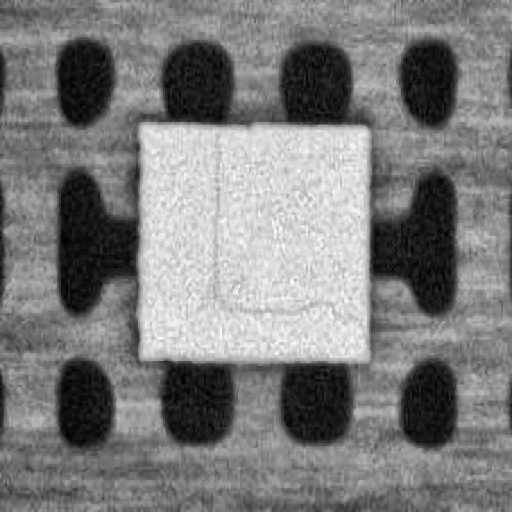DIE_CRACK: (210, 143, 346, 321)
